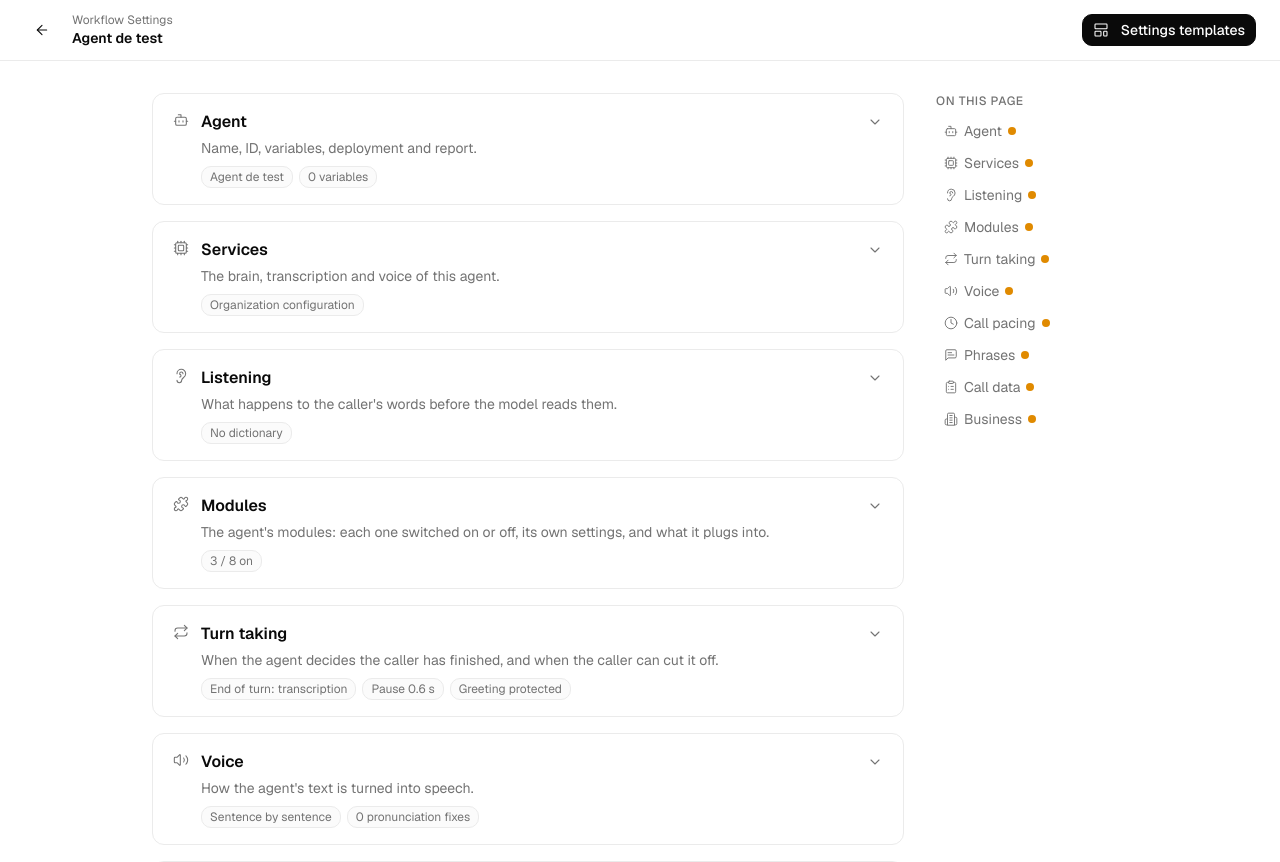
Test: [.mark] our settings are reachable on the settings page › [name and title] shows both switches, and its notice, on the page
Click the button that starts with "Voice".
click(222, 762)  # box [153,734,903,844]
(page scrolled)
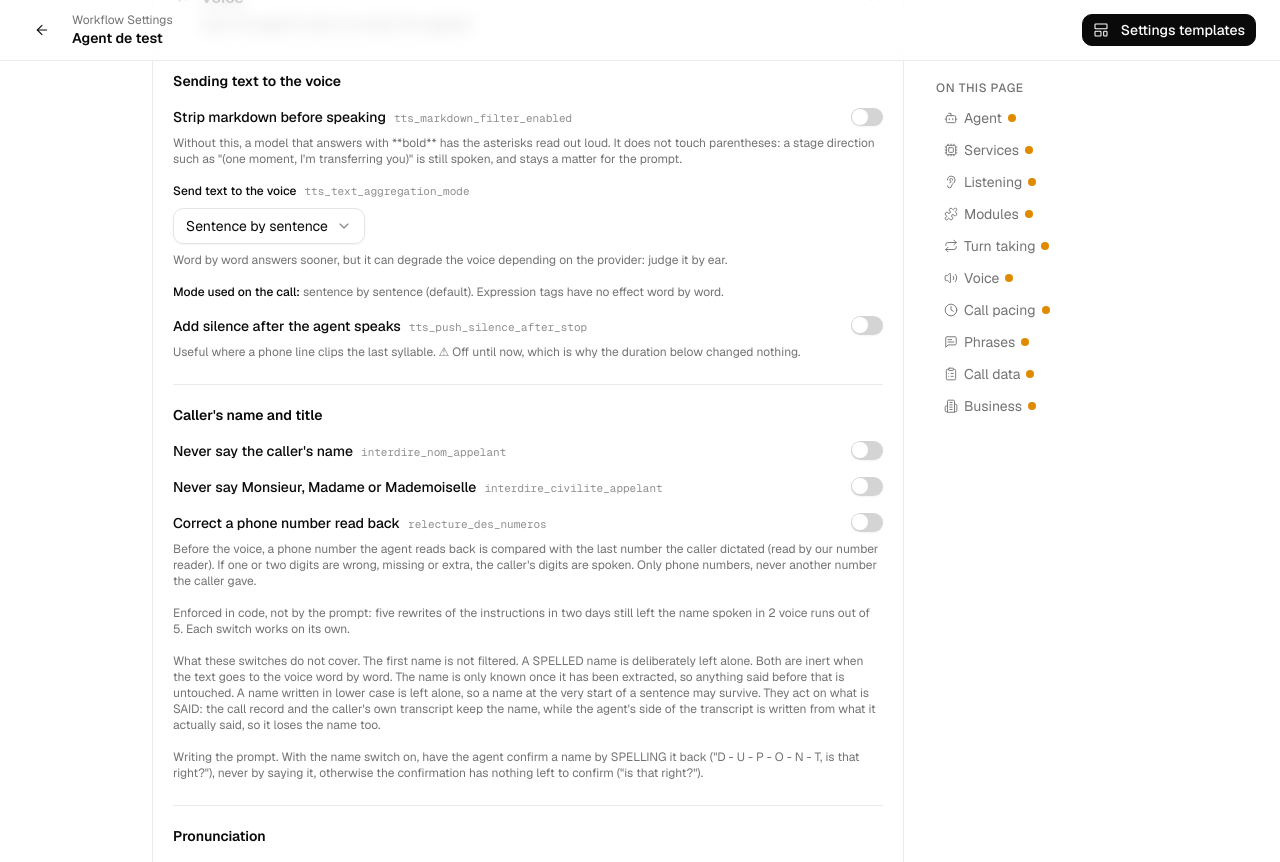
Result: the switch with id "interdire_civilite_appelant" is shown at [851,477,883,496]
Result: the switch named "never say the caller's name" in the row of "interdire_nom_appelant" is shown at [851,441,883,460]
Result: the text "SPELLING it back" is shown at [173,748,860,780]
